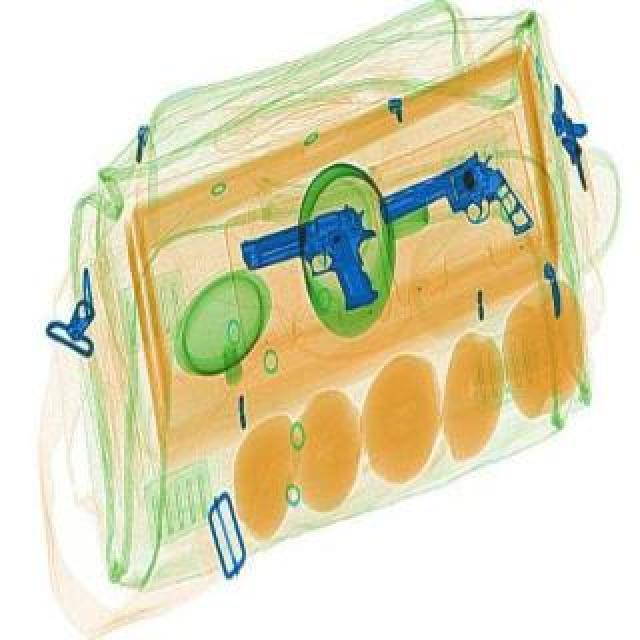gun: (238, 204, 406, 340), (374, 150, 534, 288)
